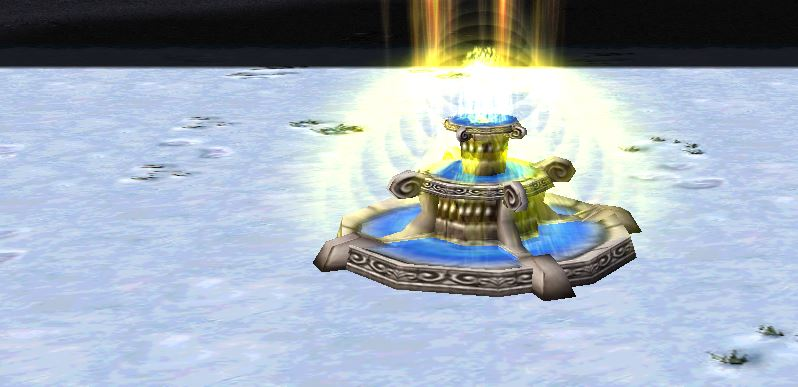sunwell: (323, 91, 653, 295)
